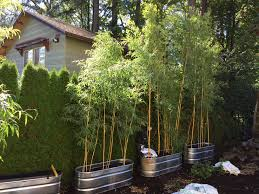bamboo: (134, 23, 218, 149), (74, 62, 115, 168), (102, 33, 134, 165)
